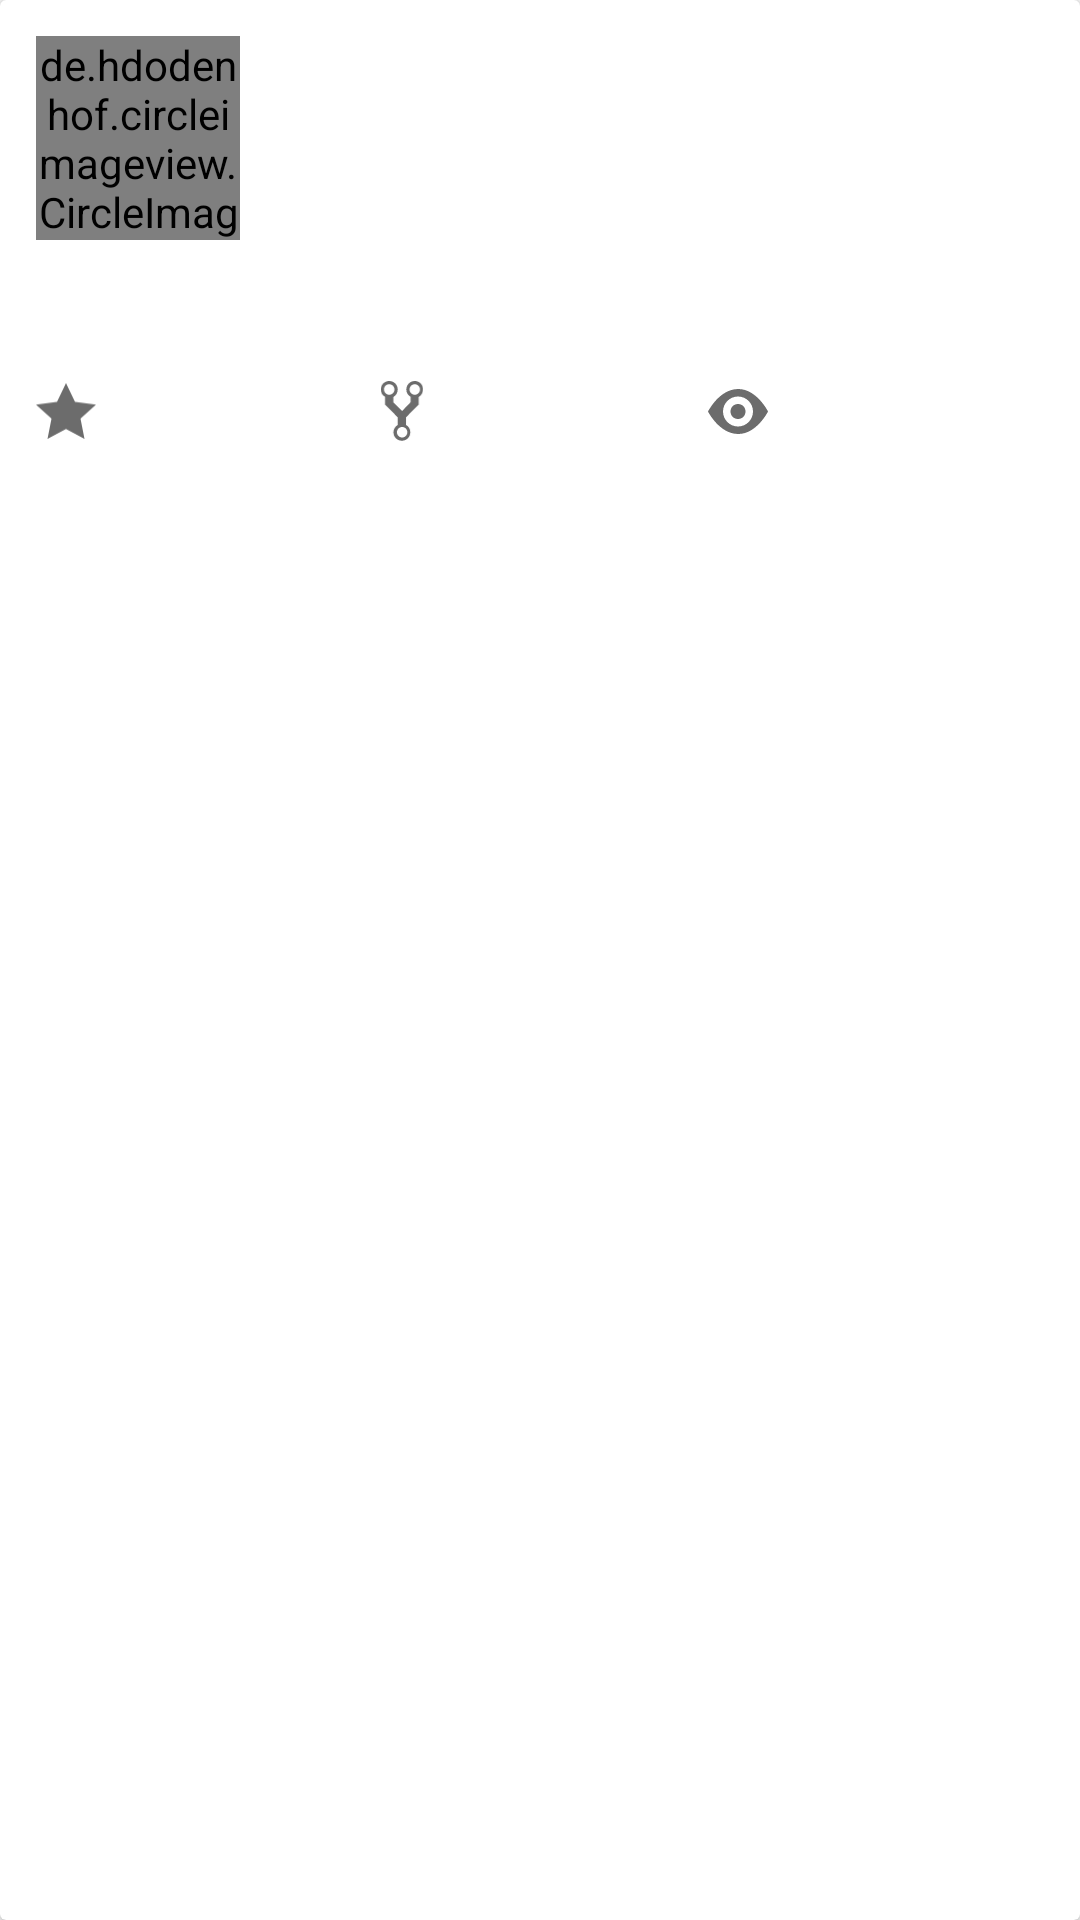

Screen size 1080px×1920px. Icon name, then its center in pixels as [x,y]:
fork: [402,411]
star: [66,411]
watcher: [738,411]
